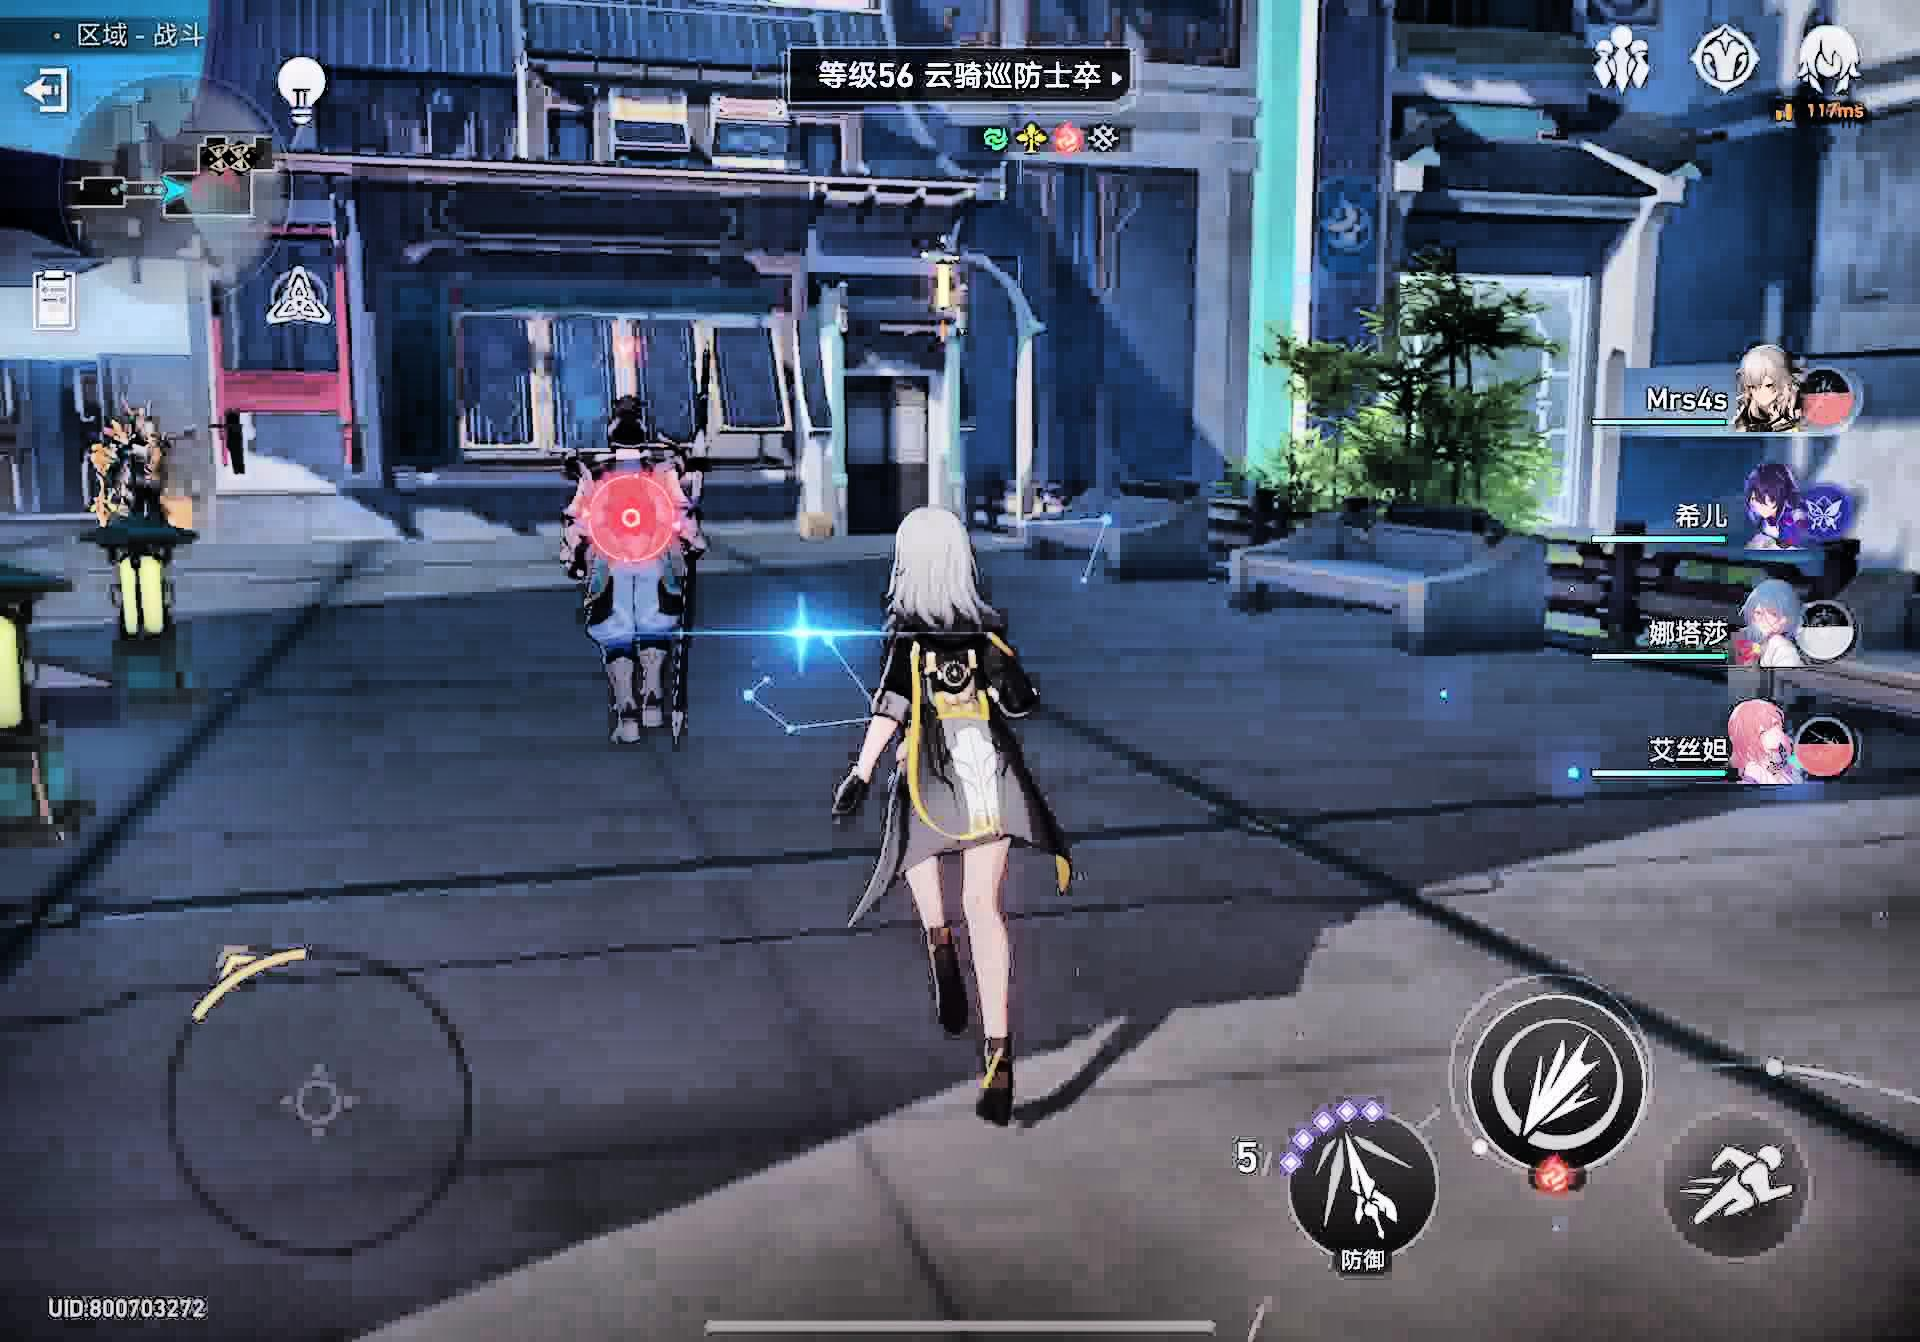Enemy: (544, 392, 702, 759), (77, 398, 181, 544)
Self: (851, 505, 1085, 1126)
